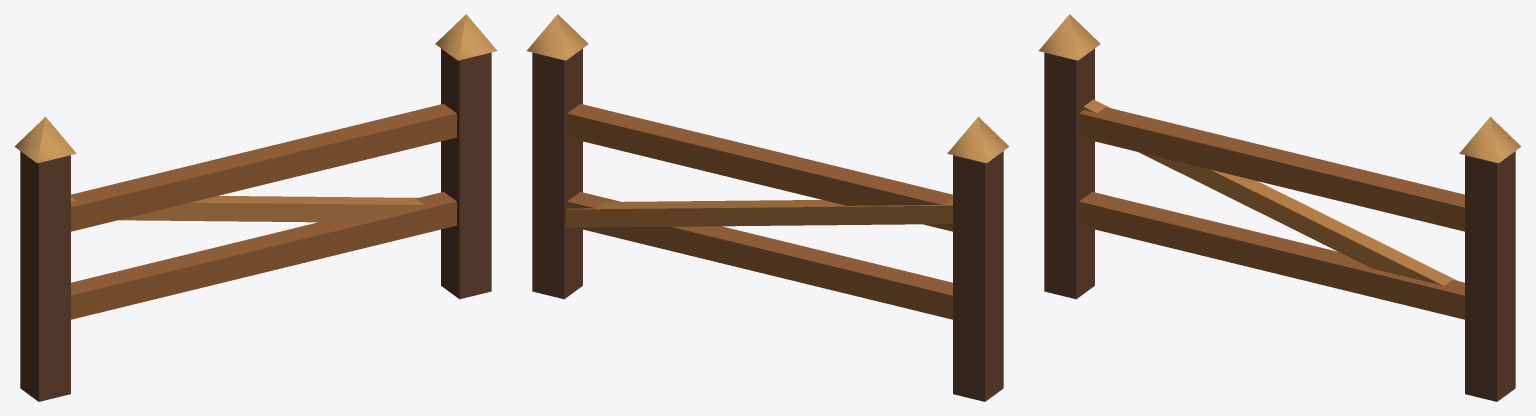
File: 16_split_rail_fence.fbx
3 renders of one model, left to right at view 1: azimuth 30°, elevation 25°; view 2: azimuth 150°, elevation 25°; view 3: azimuth 330°, elevation 25°, orthographic.
Parts seen in each view (by area): view 1: 16_split_rail_fence; view 2: 16_split_rail_fence; view 3: 16_split_rail_fence.
Boxes of the visible parts, left/top/right/bottom form: 16_split_rail_fence: left=14, top=14, right=496, bottom=401; 16_split_rail_fence: left=527, top=14, right=1009, bottom=401; 16_split_rail_fence: left=1039, top=14, right=1521, bottom=401.
Size of the model in its own units: 2.3 by 1.31 by 0.198.
Materials: 1 (1 with a texture image).
